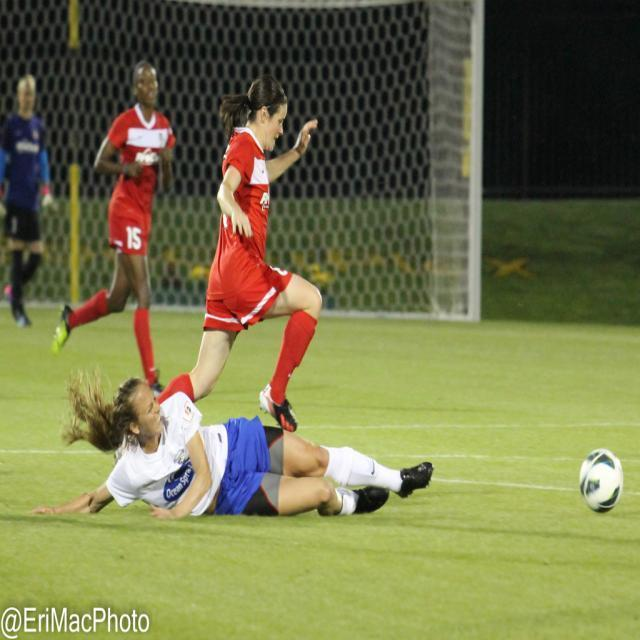football: (565, 444, 635, 514)
